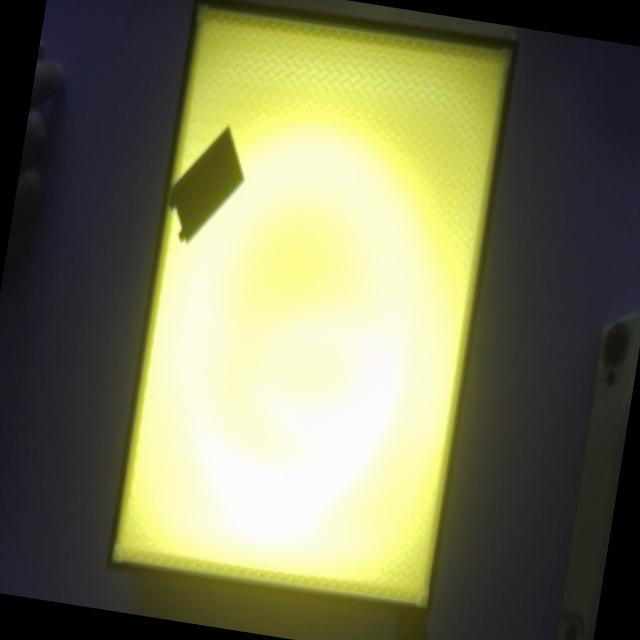bateria: (167, 125, 245, 245)
mesa: (105, 0, 522, 619)
